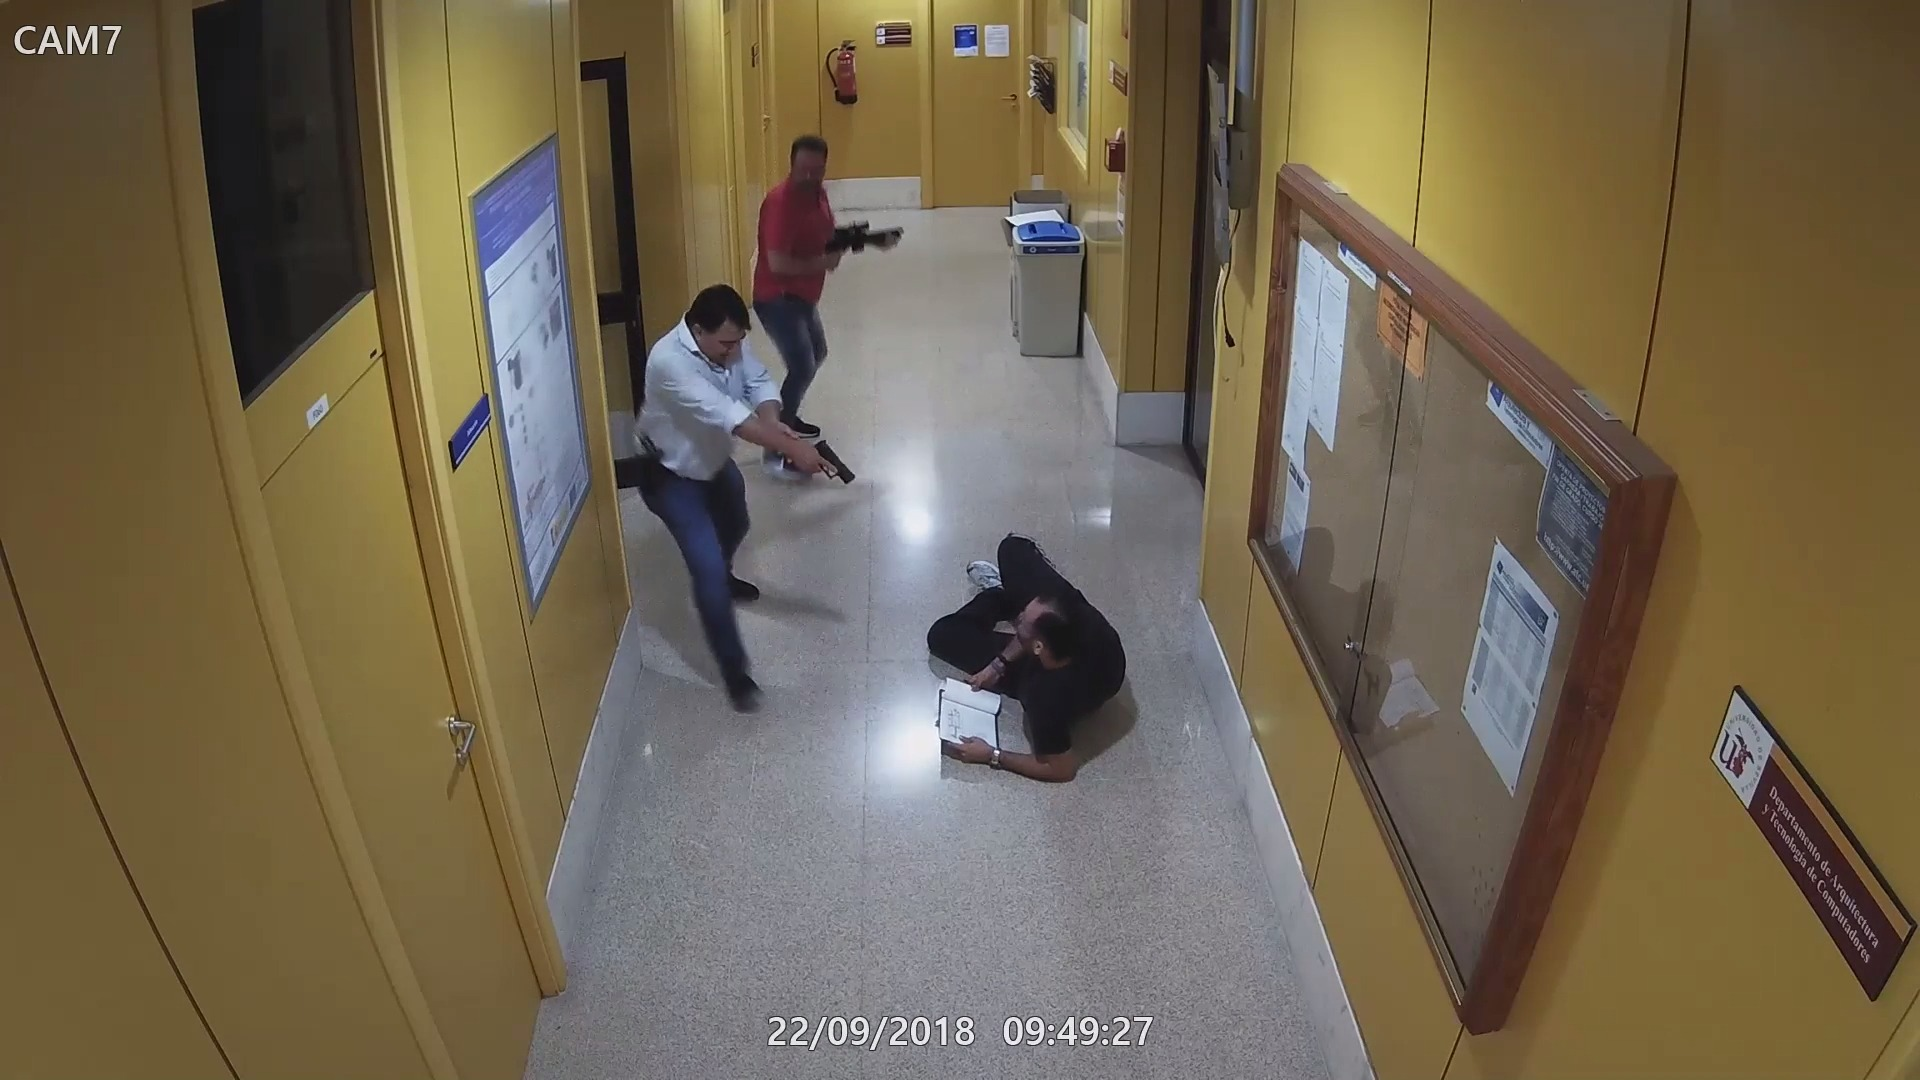Handgun: (810, 438, 857, 483)
Short_rifle: (822, 216, 909, 256)
